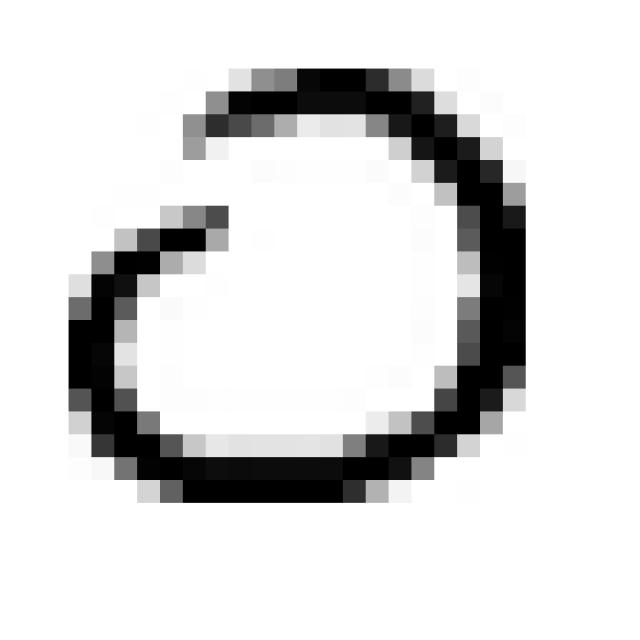5 -five-: (46, 43, 546, 530)
